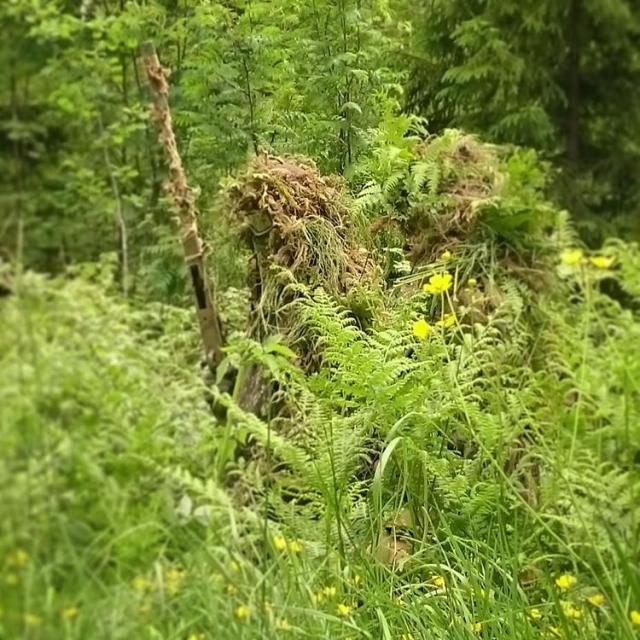Camouflage: (200, 156, 390, 398), (380, 119, 560, 336)
